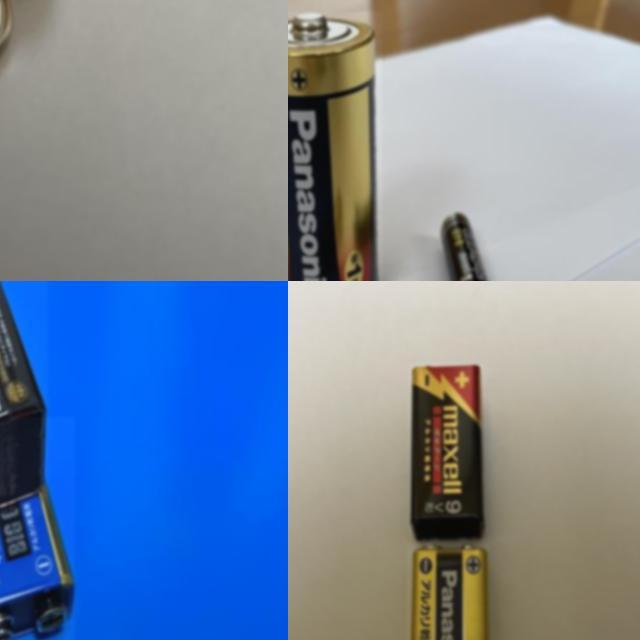9V: (0, 417, 75, 640), (409, 364, 484, 540), (0, 281, 48, 514), (407, 544, 489, 640)
